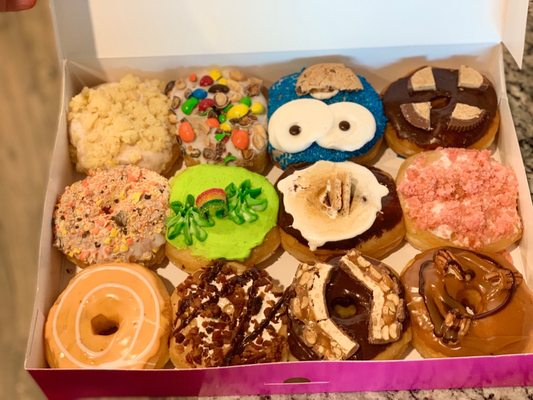salad: (286, 250, 413, 362), (395, 147, 524, 256), (44, 263, 174, 371), (275, 159, 407, 265), (400, 246, 523, 359), (168, 261, 289, 370), (266, 63, 389, 169), (164, 164, 282, 273), (52, 165, 171, 270), (67, 74, 181, 178), (167, 69, 271, 178), (382, 64, 502, 158)
